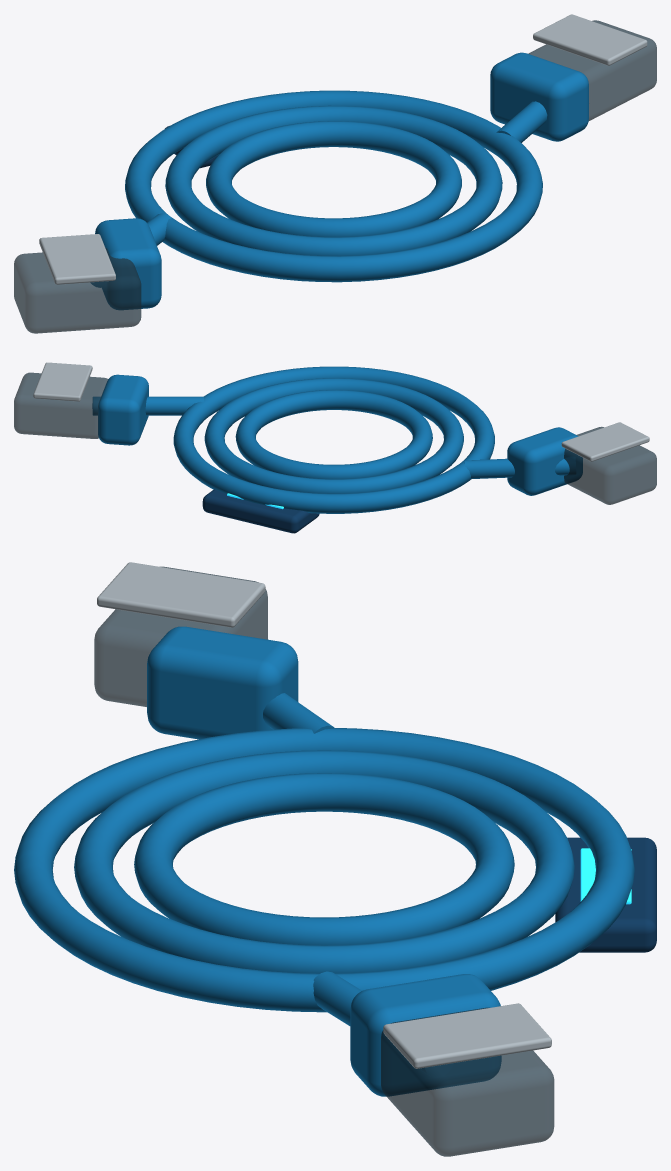
Rendered from blue-ethernet-cable.glb.
3 views of the same model, one above another, from view 1: azimuth 30°, elevation 25°; view 2: azimuth 150°, elevation 25°; view 3: azimuth 270°, elevation 25° (orthographic). The views are drawn at different scales.
Visible parts, largest first — view 1: Premium blue Cat6 ethernet cable, Transparent RJ45 plug (×2), Strain relief (×2), Locking clip (×2); view 2: Premium blue Cat6 ethernet cable, Transparent RJ45 plug (×2), Strain relief (×2), Locking clip (×2), Cat6 cable marker; view 3: Premium blue Cat6 ethernet cable, Strain relief (×2), Transparent RJ45 plug (×2), Locking clip (×2), Cat6 cable marker.
Part boxes in pixels (x1=…): Premium blue Cat6 ethernet cable: x1=91, y1=90, x2=547, y2=287; Transparent RJ45 plug (×2): x1=14, y1=20, x2=656, y2=333; Strain relief (×2): x1=95, y1=52, x2=588, y2=309; Locking clip (×2): x1=39, y1=14, x2=647, y2=284; Premium blue Cat6 ethernet cable: x1=92, y1=366, x2=575, y2=513; Transparent RJ45 plug (×2): x1=14, y1=372, x2=656, y2=504; Strain relief (×2): x1=98, y1=374, x2=582, y2=495; Locking clip (×2): x1=33, y1=362, x2=649, y2=461; Cat6 cable marker: x1=202, y1=489, x2=319, y2=533; Premium blue Cat6 ethernet cable: x1=14, y1=693, x2=634, y2=1077; Strain relief (×2): x1=147, y1=626, x2=501, y2=1096; Transparent RJ45 plug (×2): x1=94, y1=566, x2=554, y2=1156; Locking clip (×2): x1=97, y1=562, x2=551, y2=1068; Cat6 cable marker: x1=555, y1=837, x2=656, y2=952.
Size of the model in its own units: 2.69 by 0.2425 by 1.39.
